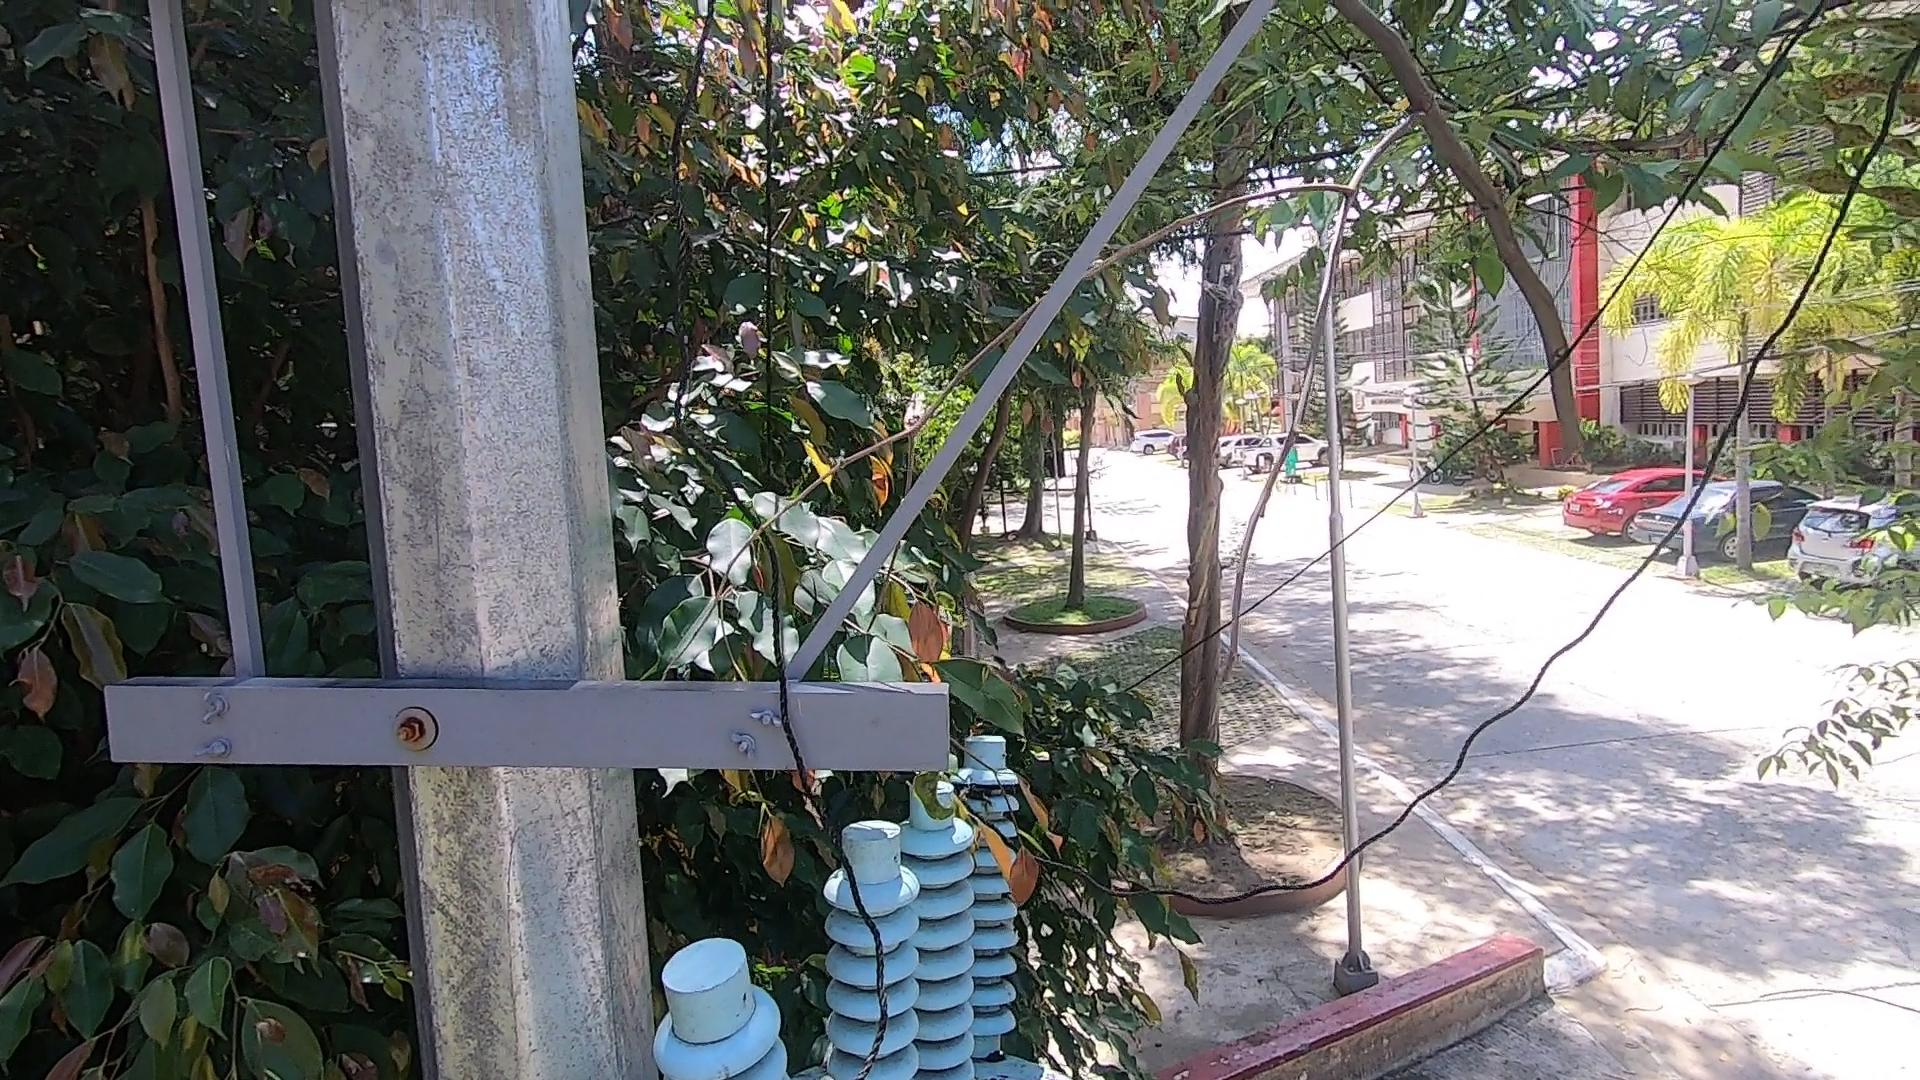tree branch: (702, 24, 1654, 684)
